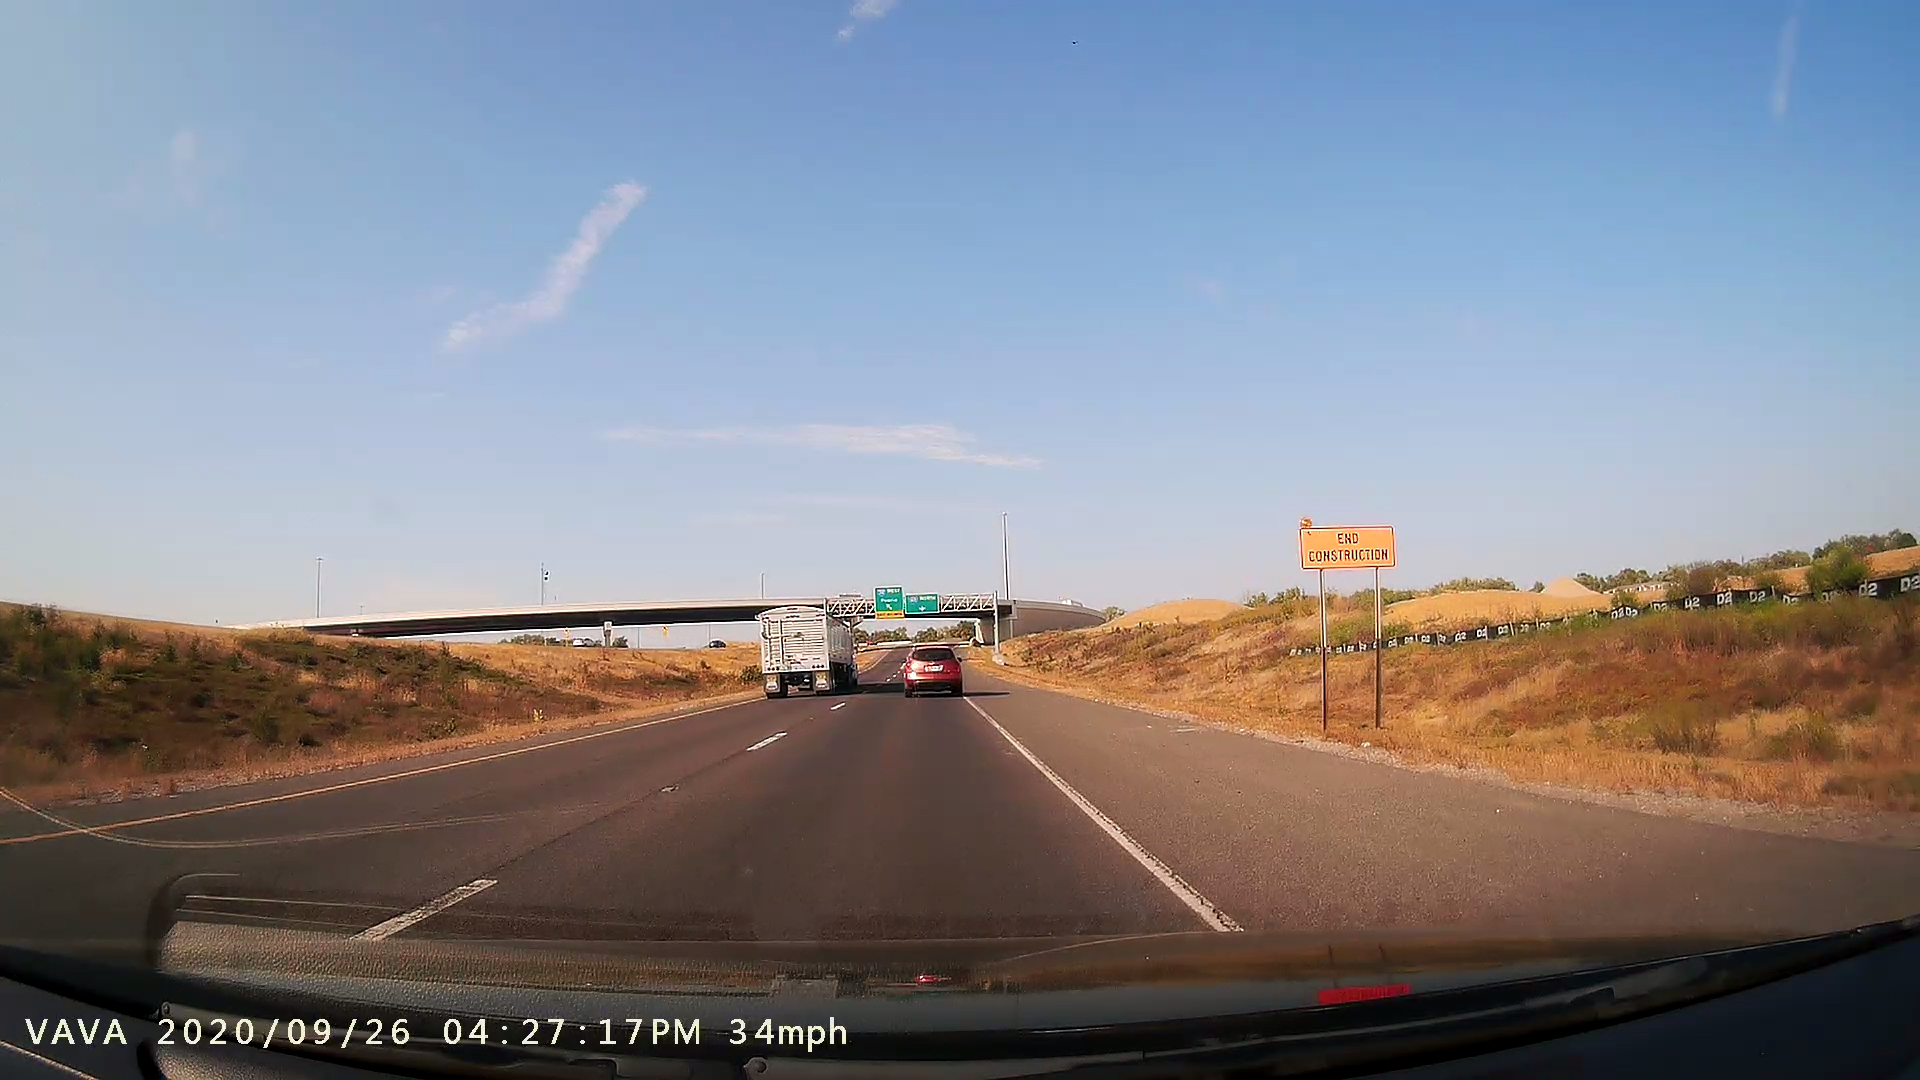ttcs_end_const: (1282, 498, 1419, 735)
